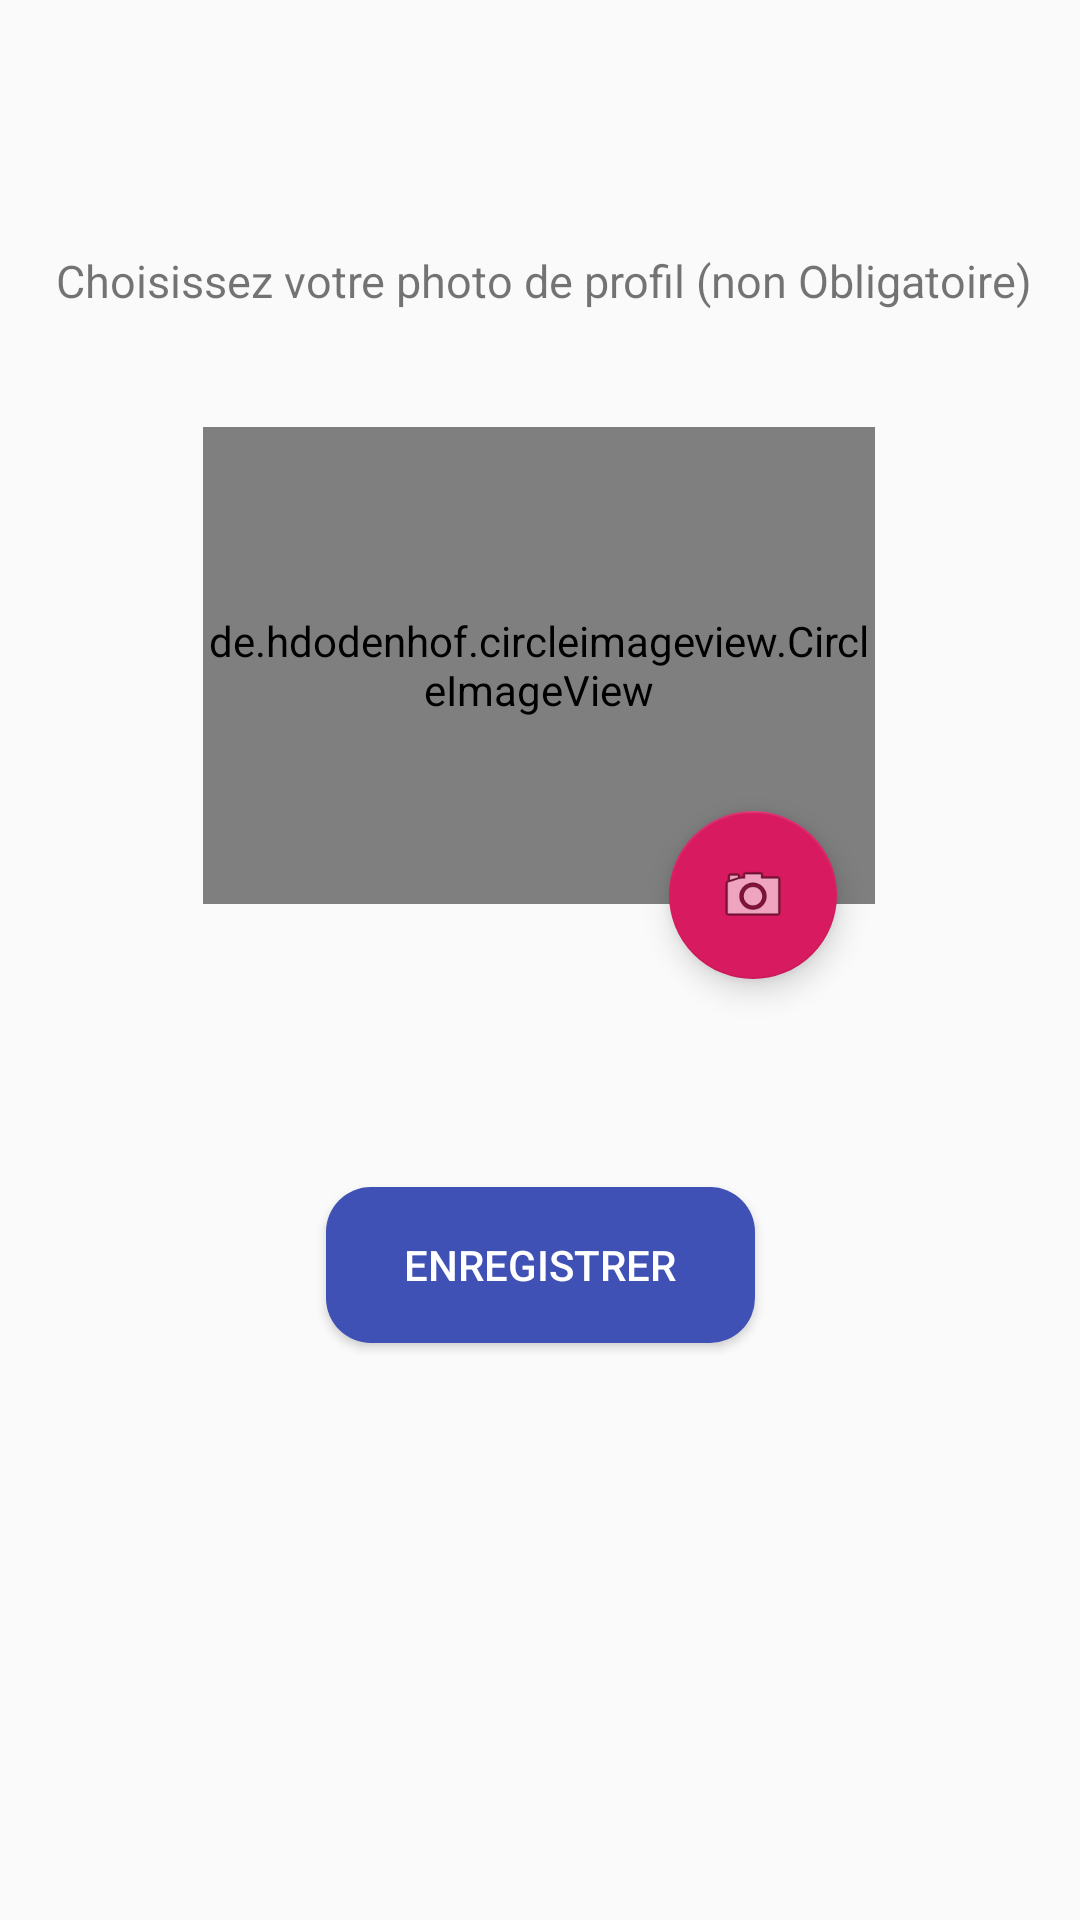

Point at icon controls on the screen. Image size 1080x1920, points as (x=x, y=y).
camera: (x=753, y=895)
